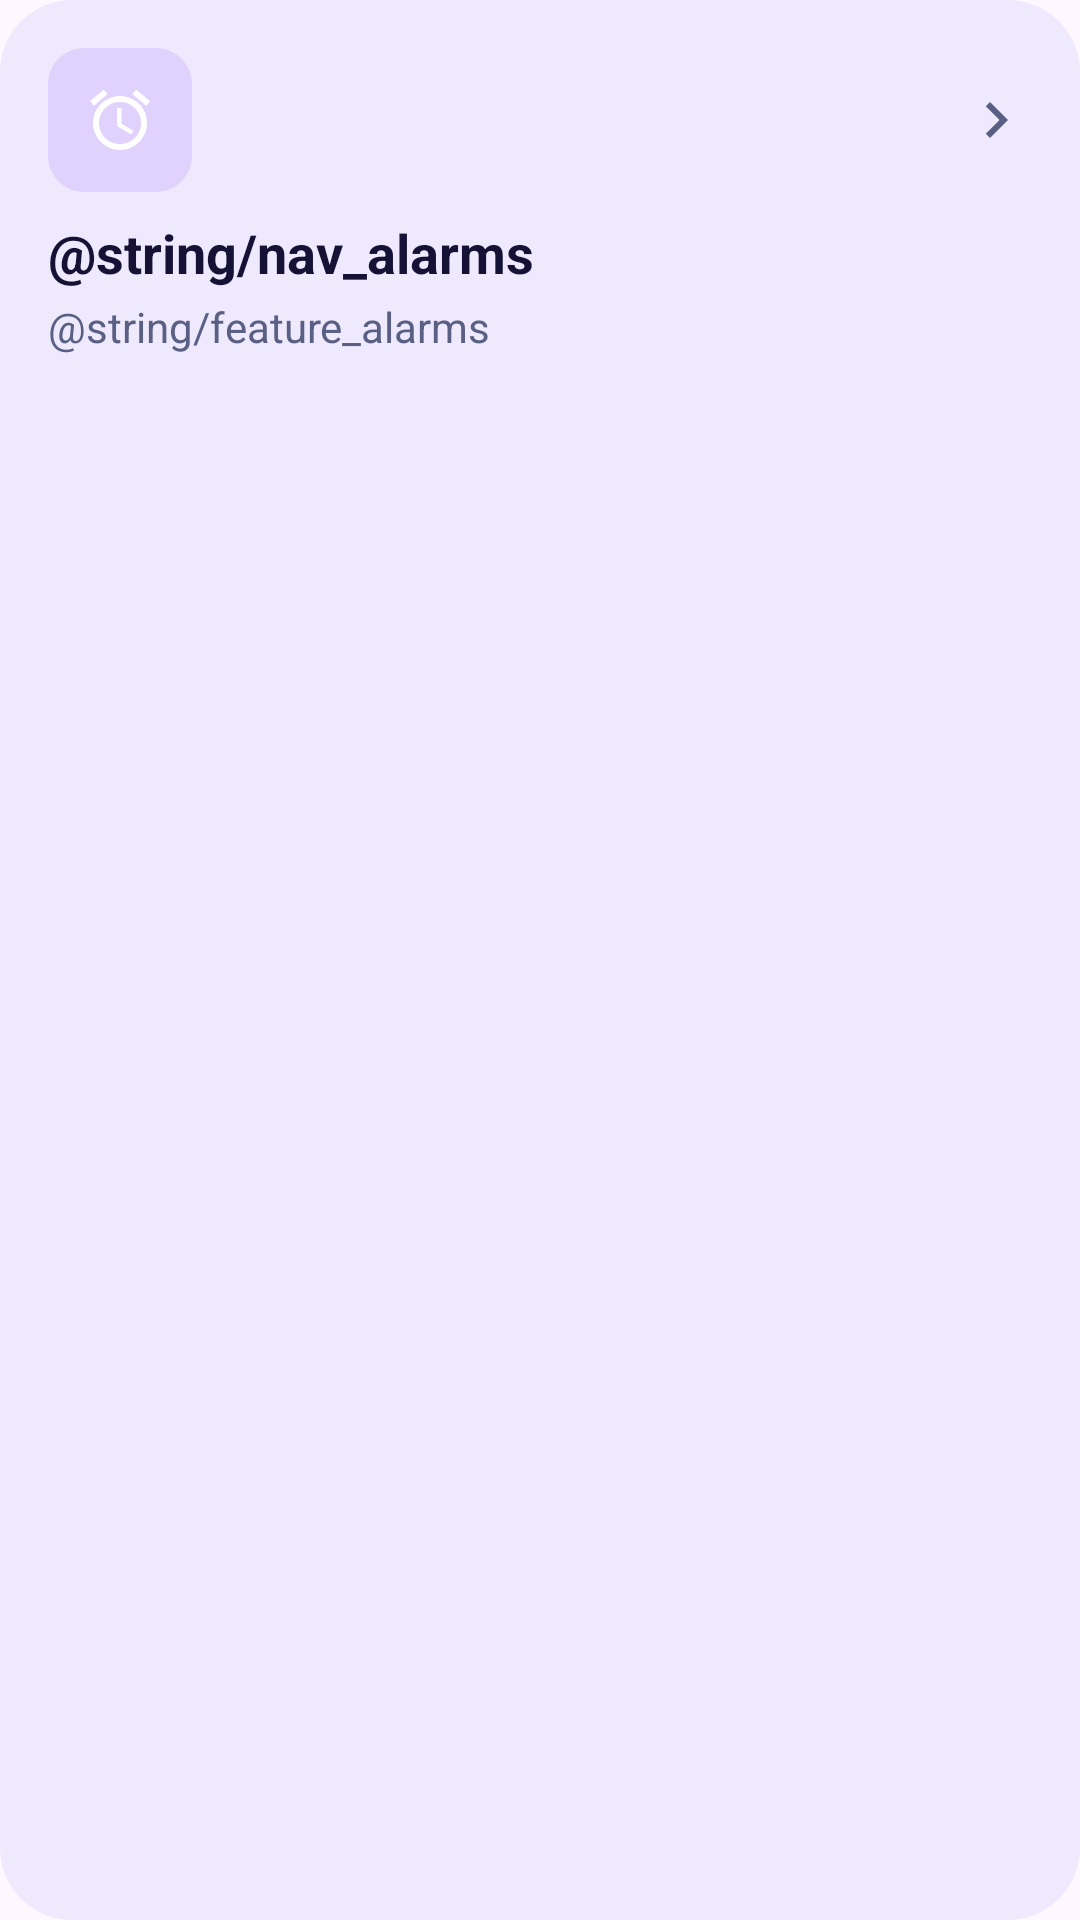

Icons on this 1080w x 1920h Android screen, each with the point to tap as (x,y):
chevron: (997,120)
